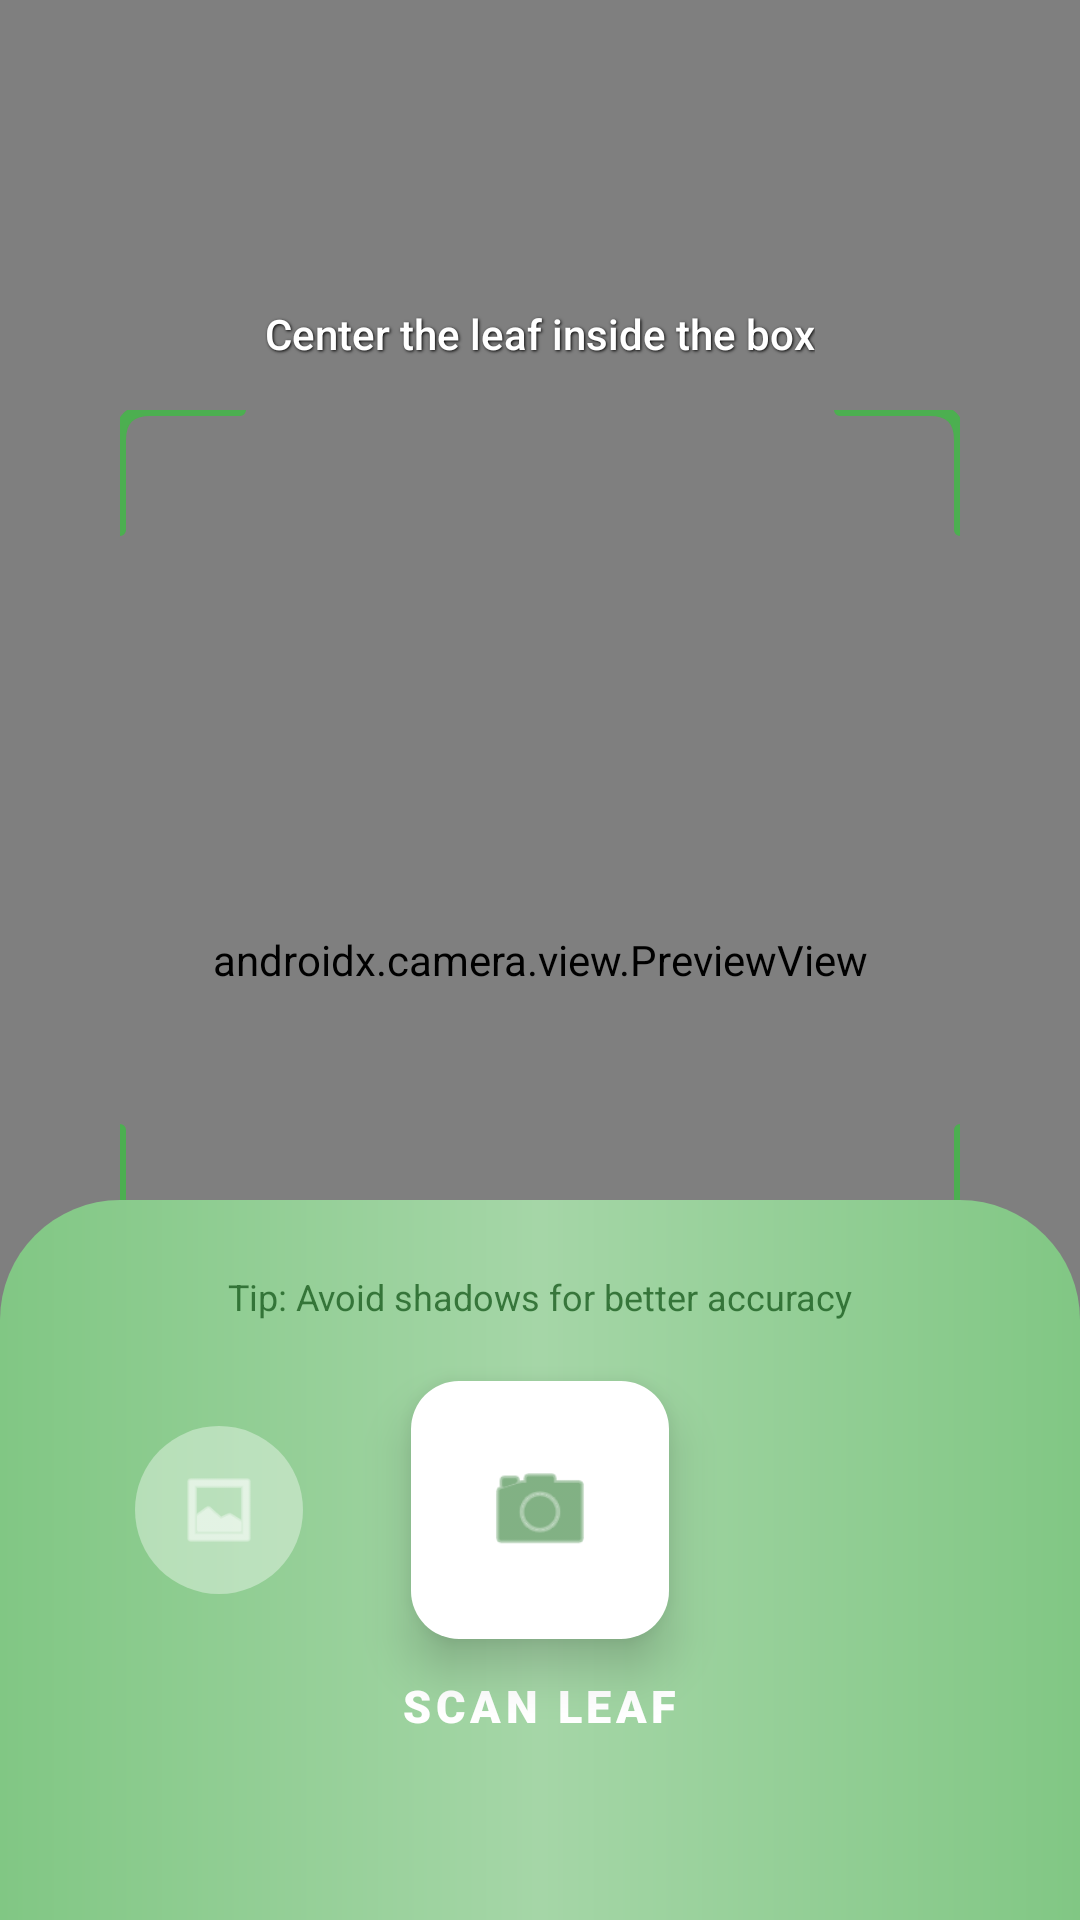

Screen size 1080 x 1920. Icon name, then its center in pixels as [x,y]:
gallery: [219,1510]
